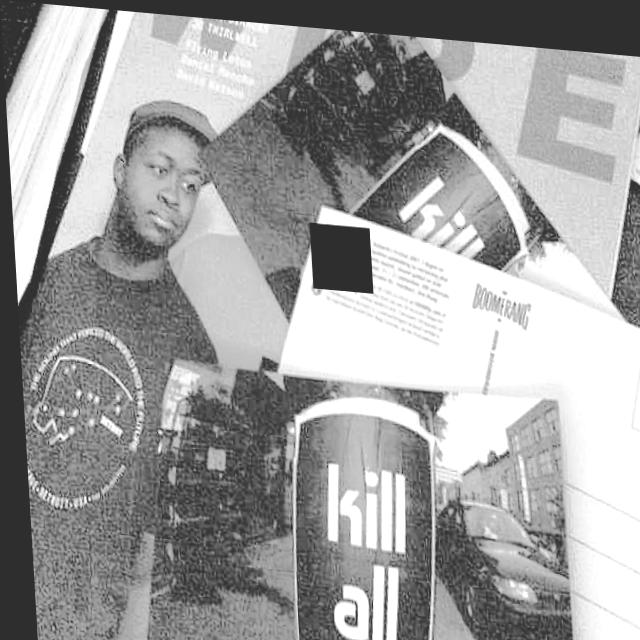qr_code: (307, 217, 370, 287)
